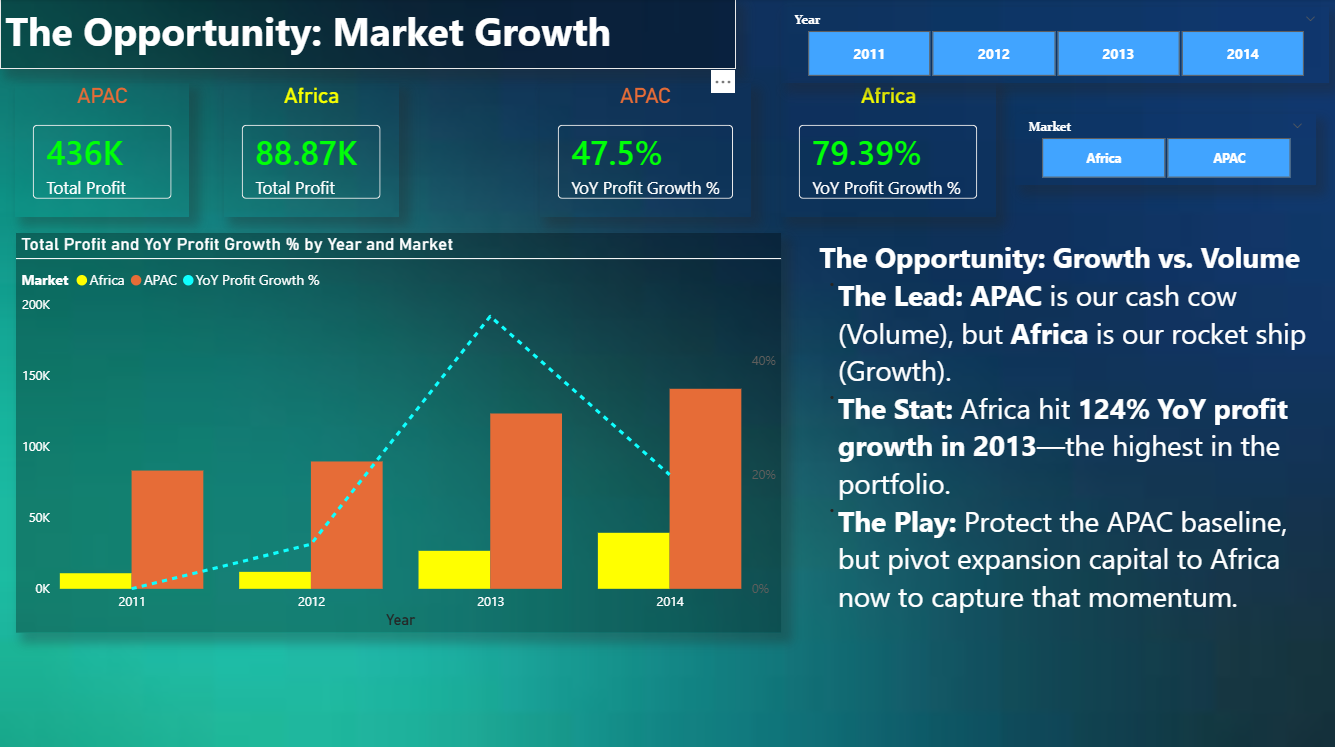

Layout of this report page (visuals, bound fields, positions):
{"tool":"powerbi","page":{"name":"Opportunity","canvas":[1280,720],"ordinal":1},"visuals":[{"type":"cardVisual","title":"APAC ","fields":{"Data":["Fact_Orders.YoY Profit Growth %"]},"box":[517.4,80.5,202.2,128.4],"z":0},{"type":"cardVisual","title":"Africa","fields":{"Data":["Fact_Orders.Total Profit"]},"box":[214.6,80.5,167.7,128.4],"z":1000},{"type":"cardVisual","title":"Africa","fields":{"Data":["Fact_Orders.YoY Profit Growth %"]},"box":[748.3,80.5,206,128.4],"z":2000},{"type":"cardVisual","title":"APAC","fields":{"Data":["Fact_Orders.Total Profit"]},"box":[14.6,80.7,167.3,128.4],"z":3000},{"type":"slicer","fields":{"Values":["Fact_Orders.Market"]},"box":[972.5,110.2,288.4,68],"z":4000},{"type":"slicer","fields":{"Values":["Dim_Date.Year"]},"box":[748.3,7.7,525,72.8],"z":5000},{"type":"textbox","box":[0,0,705.1,67.1],"z":6000},{"type":"lineClusteredColumnComboChart","fields":{"Category":["Dim_Date.Year"],"Y":["Fact_Orders.Total Profit"],"Y2":["Fact_Orders.YoY Profit Growth %"],"Series":["Fact_Orders.Market"]},"box":[15.3,224.2,732.9,383.2],"z":7000},{"type":"textbox","box":[779.9,224.2,481,391.9],"z":8000}]}

Visuals, with their boxes in screenshot pixels (x1, y1, x2, y2), scaled from the page's 1280x720 canvas onto the 1335x747 screenshot:
"APAC " cardVisual: select_region(540, 84, 751, 217)
"Africa" cardVisual: select_region(224, 84, 399, 217)
"Africa" cardVisual: select_region(780, 84, 995, 217)
"APAC" cardVisual: select_region(15, 84, 190, 217)
slicer - Fact_Orders.Market: select_region(1014, 114, 1315, 185)
slicer - Dim_Date.Year: select_region(780, 8, 1328, 84)
textbox: select_region(0, 0, 735, 70)
lineClusteredColumnComboChart - Dim_Date.Year x Fact_Orders.Total Profit: select_region(16, 233, 780, 630)
textbox: select_region(813, 233, 1315, 639)
